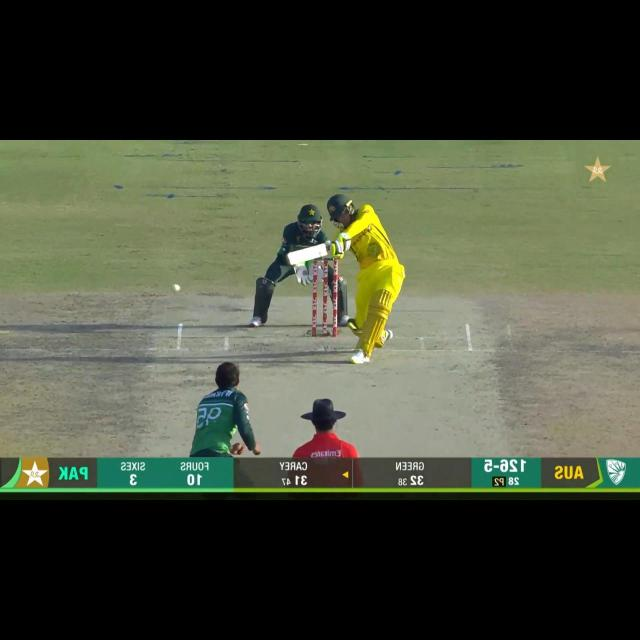bat: (286, 244, 332, 266)
toe: (286, 250, 304, 266)
